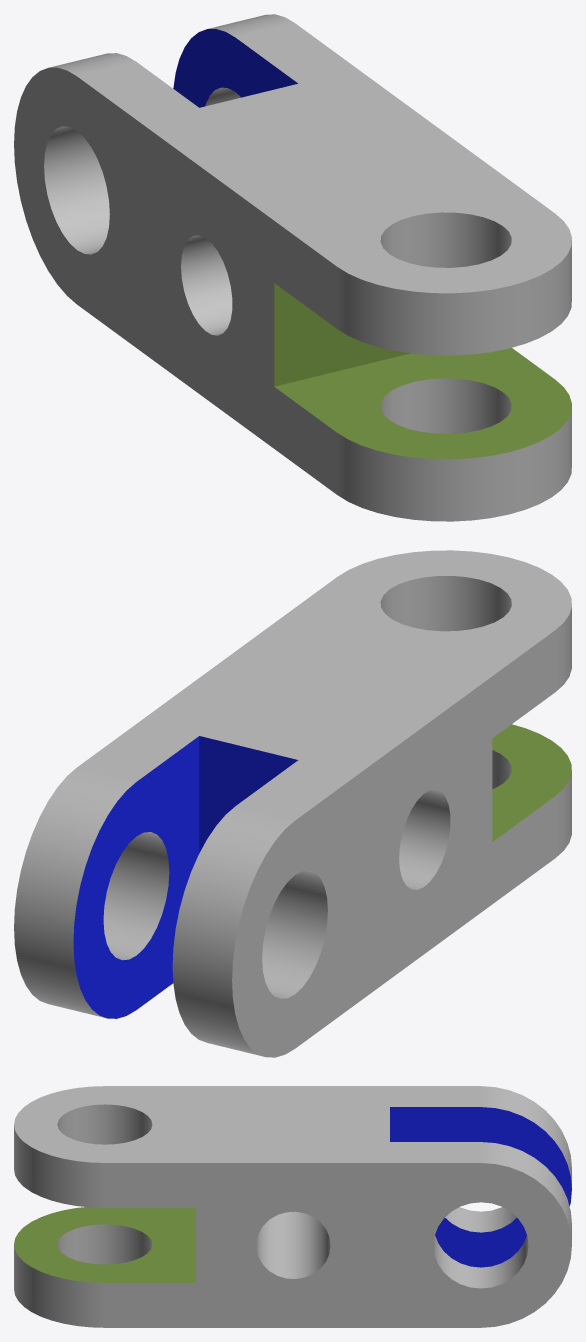
The picture shows the model from 3 angles, top to bottom: view 1: azimuth 30°, elevation 25°; view 2: azimuth 150°, elevation 25°; view 3: azimuth 270°, elevation 25°; orthographic projection. The views are drawn at different scales.
Parts seen in each view (by area): view 1: Solid1; view 2: Solid1; view 3: Solid1.
Part boxes in pixels (<box>): Solid1: <box>14,14,571,521</box>; Solid1: <box>14,550,571,1057</box>; Solid1: <box>14,1086,571,1327</box>.
Size of the model in its own units: 0.044 by 0.044 by 0.1349.
